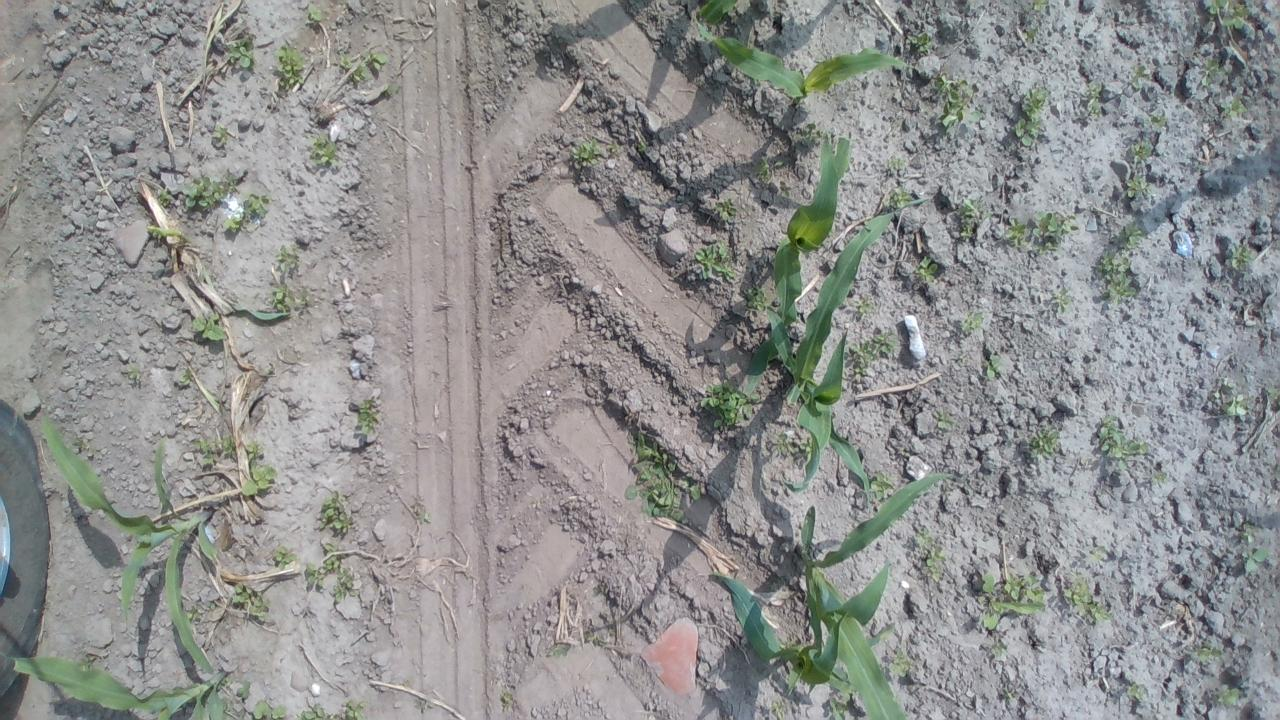Maize: (767, 196, 931, 502), (39, 411, 219, 675), (798, 472, 958, 720), (731, 136, 849, 406), (704, 570, 896, 696), (694, 20, 924, 103), (0, 651, 228, 720), (696, 0, 804, 25)
Weeds: (624, 432, 689, 520), (978, 572, 1046, 630), (700, 380, 760, 428), (1097, 415, 1148, 471), (1062, 571, 1113, 621), (936, 73, 974, 134), (1096, 251, 1137, 304), (1014, 86, 1050, 146), (694, 241, 738, 281), (1212, 376, 1252, 415), (318, 490, 353, 534), (232, 582, 270, 622), (181, 175, 226, 208), (275, 43, 305, 90), (1206, 0, 1250, 30), (1031, 210, 1079, 237), (850, 340, 880, 382), (240, 466, 278, 496), (306, 133, 339, 166), (1028, 424, 1060, 458), (958, 195, 982, 238), (191, 314, 227, 342), (569, 138, 603, 166), (228, 36, 255, 68), (356, 396, 378, 435), (333, 568, 358, 602), (192, 438, 220, 468), (1118, 221, 1144, 252), (754, 154, 784, 180), (252, 699, 288, 720), (795, 122, 829, 144), (1082, 81, 1102, 118), (1201, 58, 1227, 86), (271, 284, 295, 314), (745, 284, 771, 311), (242, 192, 270, 217), (926, 546, 946, 581), (1004, 217, 1028, 246), (886, 648, 910, 677), (275, 244, 300, 271), (906, 30, 936, 52), (1242, 549, 1269, 573), (870, 472, 893, 500), (272, 544, 296, 570), (915, 256, 938, 283), (884, 186, 911, 209), (874, 329, 898, 354), (1230, 243, 1252, 270), (830, 691, 850, 720), (1125, 175, 1150, 197), (1220, 97, 1246, 118), (360, 50, 386, 71), (1192, 644, 1222, 662), (219, 699, 244, 720), (322, 542, 340, 571), (342, 700, 368, 720), (304, 561, 324, 587), (1053, 287, 1071, 314), (1131, 140, 1153, 162), (714, 200, 736, 222), (1218, 684, 1240, 706), (961, 311, 984, 332), (1130, 65, 1150, 89), (984, 354, 1004, 378), (296, 703, 324, 720), (932, 410, 956, 429), (350, 62, 370, 84), (916, 526, 934, 550), (1032, 240, 1060, 255), (854, 296, 874, 316), (143, 224, 168, 240), (244, 441, 264, 461), (776, 433, 796, 453), (216, 436, 238, 454), (222, 215, 243, 233), (154, 188, 172, 207), (1239, 523, 1257, 542), (307, 1, 324, 21), (76, 654, 96, 671), (1127, 680, 1144, 700), (550, 642, 570, 658), (585, 630, 605, 646), (1086, 546, 1106, 562), (772, 700, 788, 720), (236, 681, 252, 700), (1146, 115, 1166, 130), (212, 124, 228, 142), (606, 138, 622, 154), (178, 369, 193, 385), (990, 642, 1006, 657), (126, 363, 140, 380), (215, 676, 232, 690), (185, 606, 202, 620), (888, 156, 906, 168), (340, 52, 352, 70), (1022, 29, 1036, 44), (689, 484, 702, 500), (225, 176, 238, 190), (799, 438, 812, 452), (969, 109, 981, 124), (1033, 0, 1048, 11), (502, 693, 511, 710), (1152, 472, 1167, 482), (636, 140, 648, 152), (300, 288, 308, 306), (72, 436, 84, 448), (1267, 386, 1280, 395), (1002, 689, 1012, 700), (385, 86, 394, 96), (422, 512, 431, 522), (982, 211, 992, 219), (958, 354, 967, 362), (264, 368, 274, 375), (328, 714, 338, 720), (902, 451, 911, 457), (1276, 466, 1280, 475)
